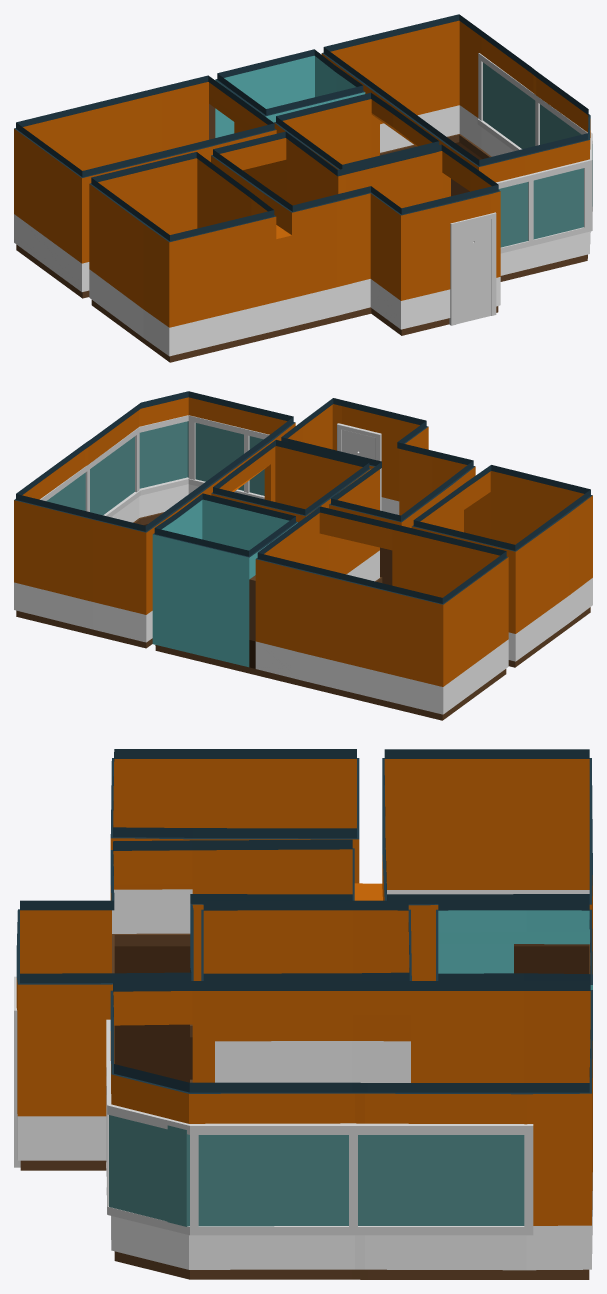
Rendered from Casa12.FBX.
The picture shows the model from 3 angles, top to bottom: view 1: azimuth 30°, elevation 25°; view 2: azimuth 150°, elevation 25°; view 3: azimuth 270°, elevation 25°; orthographic projection. The views are drawn at different scales.
Parts seen in each view (by area): view 1: Plane001, Object001, Object003, Box002, Box001; view 2: Plane001, Object001, Object003, Box002, Box001; view 3: Plane001, Object001, Object003, Box001.
Part boxes in pixels (x1,y1,x2,y2): Plane001: [14, 14, 590, 362]; Object001: [483, 62, 592, 247]; Object003: [477, 53, 592, 253]; Box002: [456, 219, 490, 324]; Box001: [449, 212, 496, 325]; Plane001: [14, 391, 592, 720]; Object001: [46, 421, 264, 515]; Object003: [40, 415, 269, 517]; Box002: [342, 429, 375, 459]; Box001: [337, 423, 381, 510]; Plane001: [16, 749, 592, 1279]; Object001: [109, 1115, 524, 1226]; Object003: [106, 1019, 533, 1235]; Box001: [14, 976, 20, 1167].
Bounding box in the file's own units: 596 × 162 × 431.
